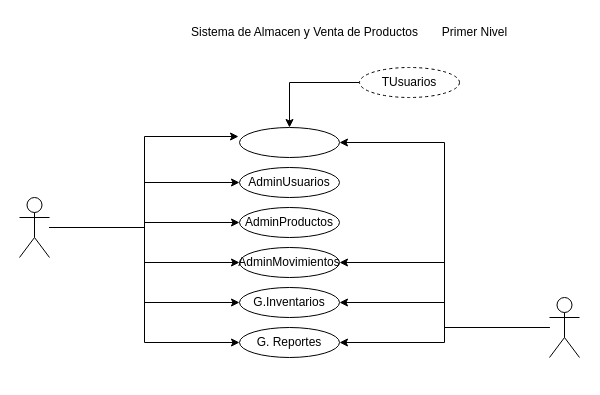
Image size: 600x395. Some labels were removed from this diagram. The centre of each missing label's shape, as x and y in pixels:
Admin: the point at 34,227
Identificación: the point at 289,142
U.Final: the point at 564,327
